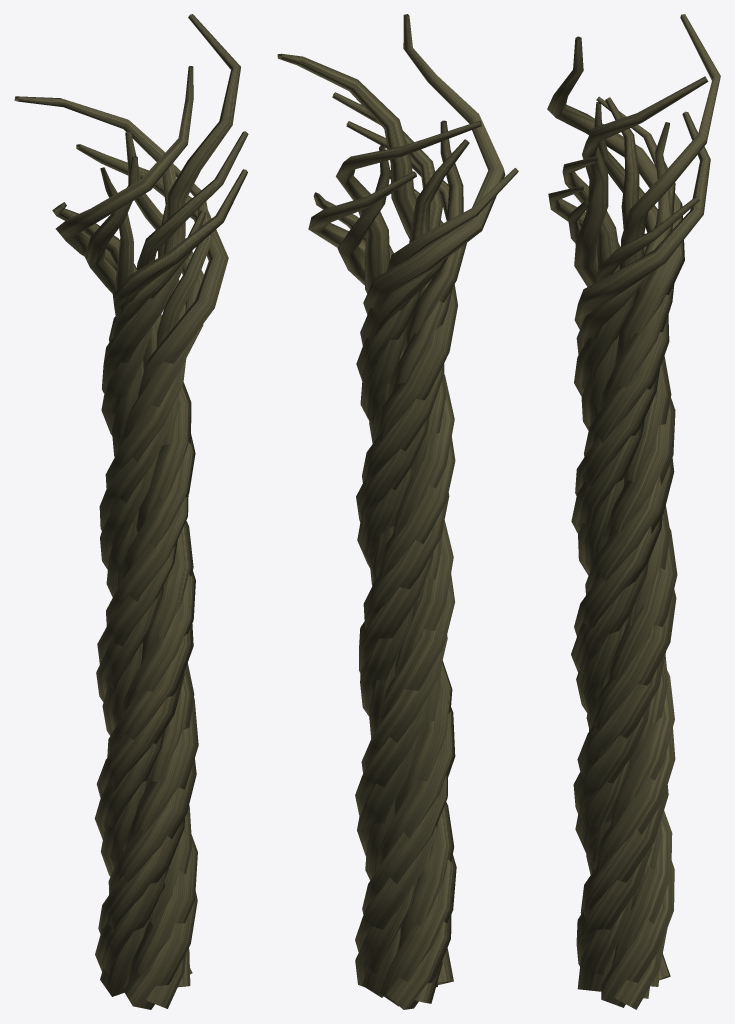
The model's file is parted-hawser.glb.
3 renders of one model, left to right at view 1: azimuth 30°, elevation 25°; view 2: azimuth 150°, elevation 25°; view 3: azimuth 270°, elevation 25°, orthographic. The views are drawn at different scales.
Parts seen in each view (by area): view 1: LOD0; view 2: LOD0; view 3: LOD0.
Boxes of the visible parts, <box> form: LOD0: <box>14,14,248,1009</box>; LOD0: <box>277,14,518,1009</box>; LOD0: <box>547,14,720,1009</box>.
Size of what is drawn, in the model's own units: 0.1655 by 0.7287 by 0.1187.
1 material, 1 textured.
